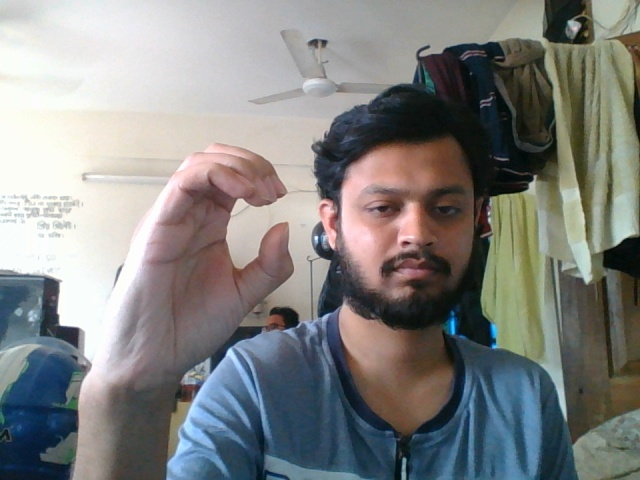ka: (92, 139, 300, 399)
